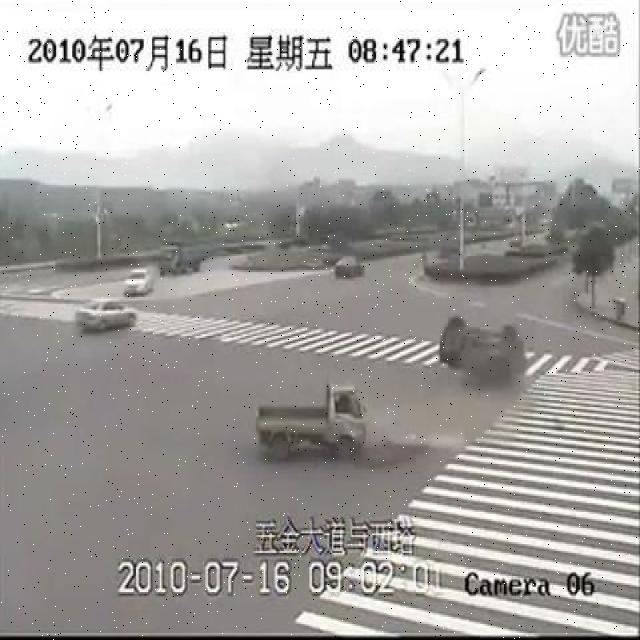severe: (435, 310, 529, 388)
